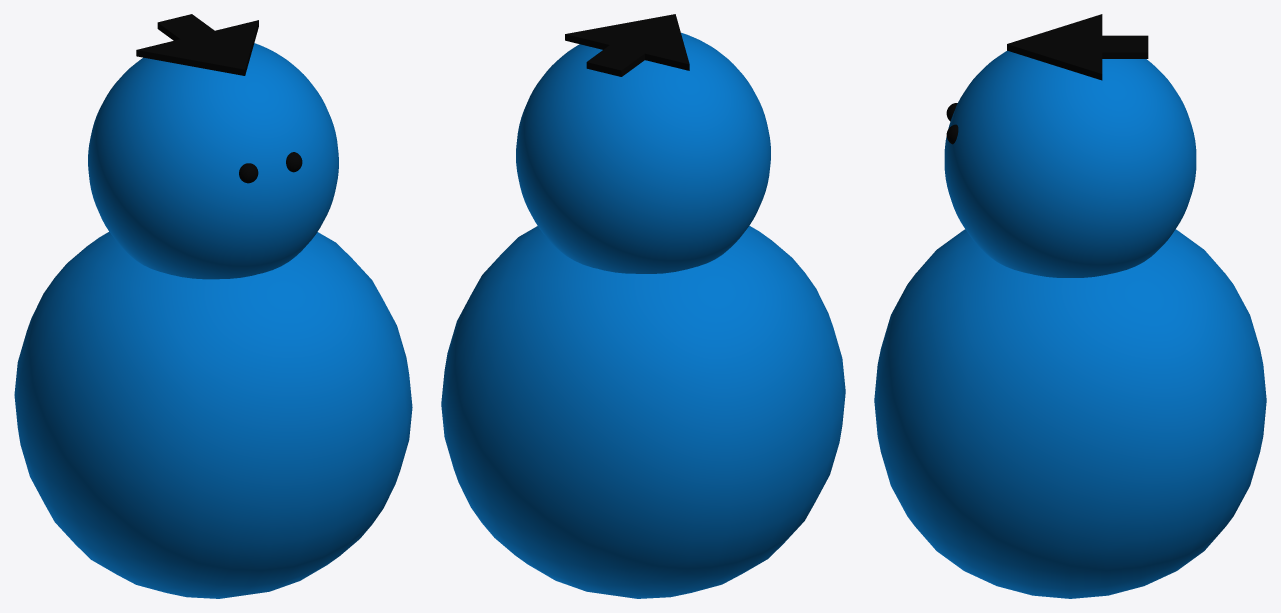
File: 1blue.obj
The picture shows the model from 3 angles, left to right: view 1: azimuth 30°, elevation 25°; view 2: azimuth 150°, elevation 25°; view 3: azimuth 270°, elevation 25°; orthographic projection.
Visible parts, largest first — view 1: Cube.002_Cube.003_Material.006, Cube.002_Cube.003_SVGMat; view 2: Cube.002_Cube.003_Material.006, Cube.002_Cube.003_SVGMat; view 3: Cube.002_Cube.003_Material.006, Cube.002_Cube.003_SVGMat.
Boxes of the visible parts, x1,y1,x2,y2 form: Cube.002_Cube.003_Material.006: (14,43,412,598); Cube.002_Cube.003_SVGMat: (136,14,302,183); Cube.002_Cube.003_Material.006: (441,32,845,598); Cube.002_Cube.003_SVGMat: (565,14,689,76); Cube.002_Cube.003_Material.006: (874,50,1266,598); Cube.002_Cube.003_SVGMat: (946,14,1148,144).
Size of the model in its own units: 0.3205 by 0.4814 by 0.3205.
